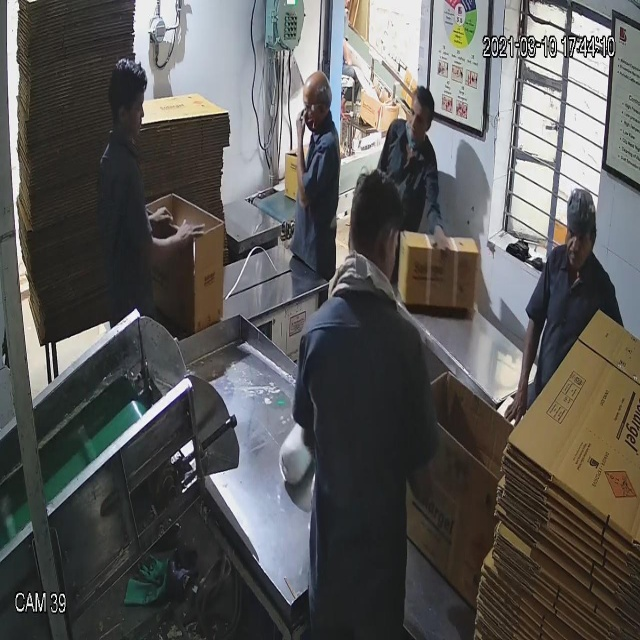Sin_guantes: (502, 290, 544, 440), (130, 210, 204, 262), (289, 100, 312, 220)
